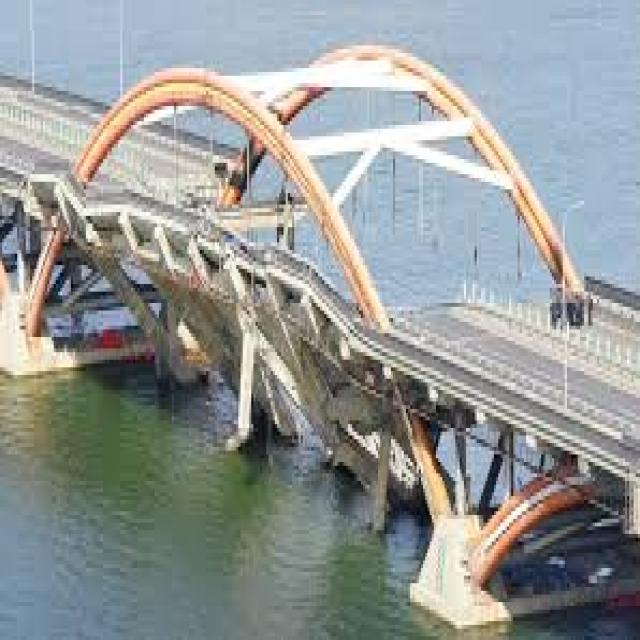bridge collapse: (49, 70, 640, 556)
